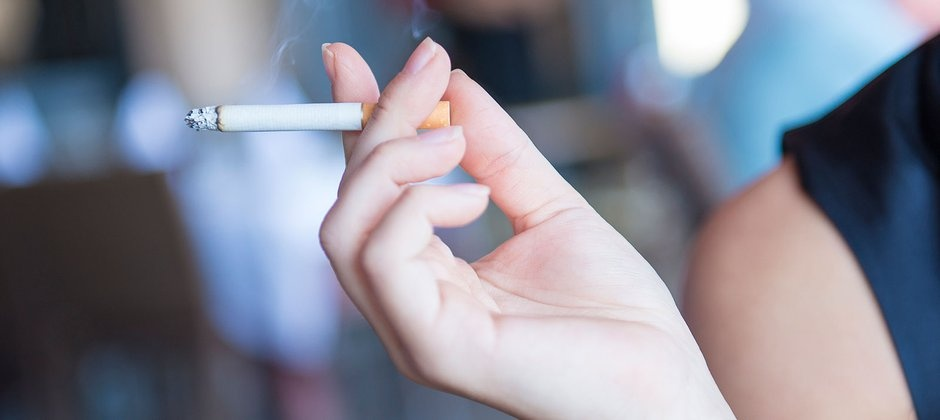sigaretta: (186, 95, 469, 140)
